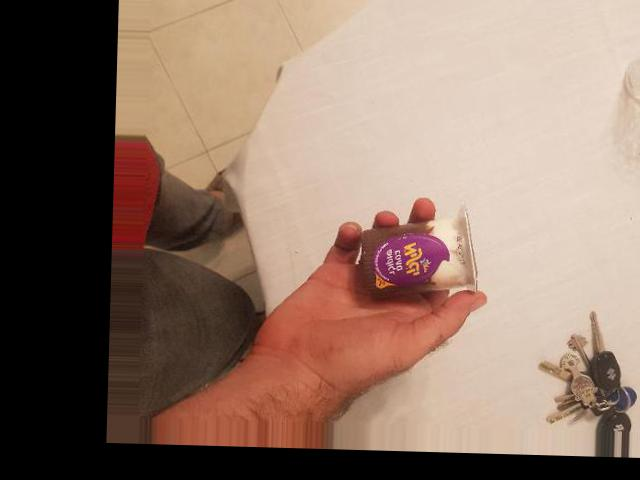milky: (413, 56, 504, 182)
